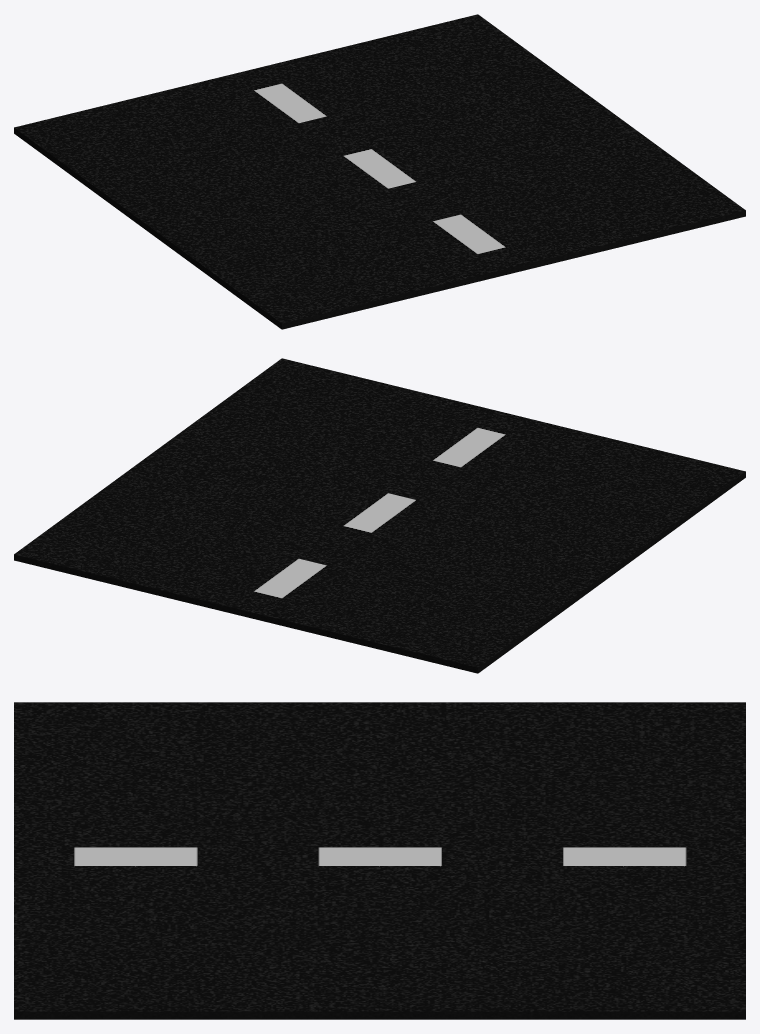
Rendered from straight_road.glb.
3 renders of one model, top to bottom at view 1: azimuth 30°, elevation 25°; view 2: azimuth 150°, elevation 25°; view 3: azimuth 270°, elevation 25°, orthographic. The views are drawn at different scales.
Visible parts, largest first — view 1: road_straight -col; view 2: road_straight -col; view 3: road_straight -col.
Part boxes in pixels (box(x1,y1,x2,y2)): road_straight -col: box(14, 14, 745, 329); road_straight -col: box(14, 358, 745, 673); road_straight -col: box(14, 702, 745, 1019).
Size of the model in its own units: 8 by 0.1 by 8.
Materials: 1 (1 with a texture image).
